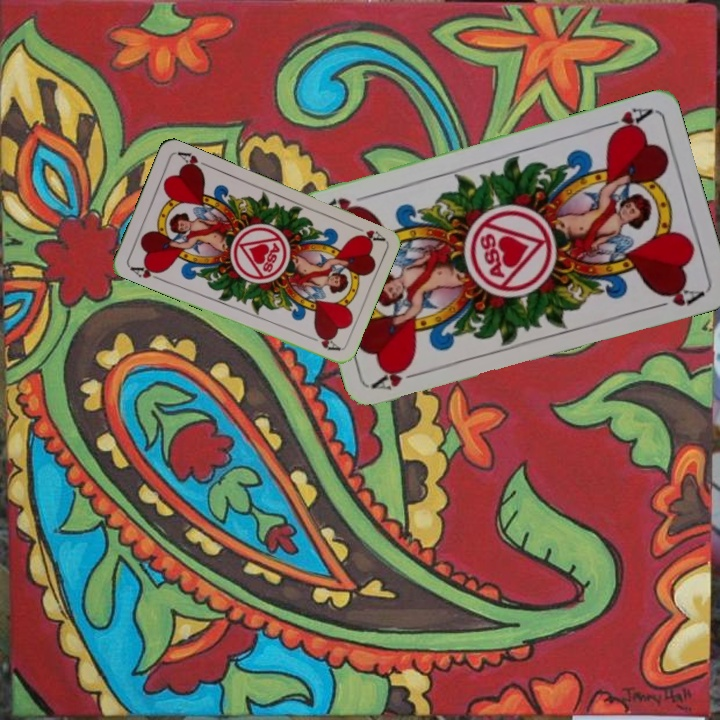HA: (596, 103, 654, 138), (369, 361, 428, 393), (126, 260, 166, 284), (347, 221, 386, 245)
